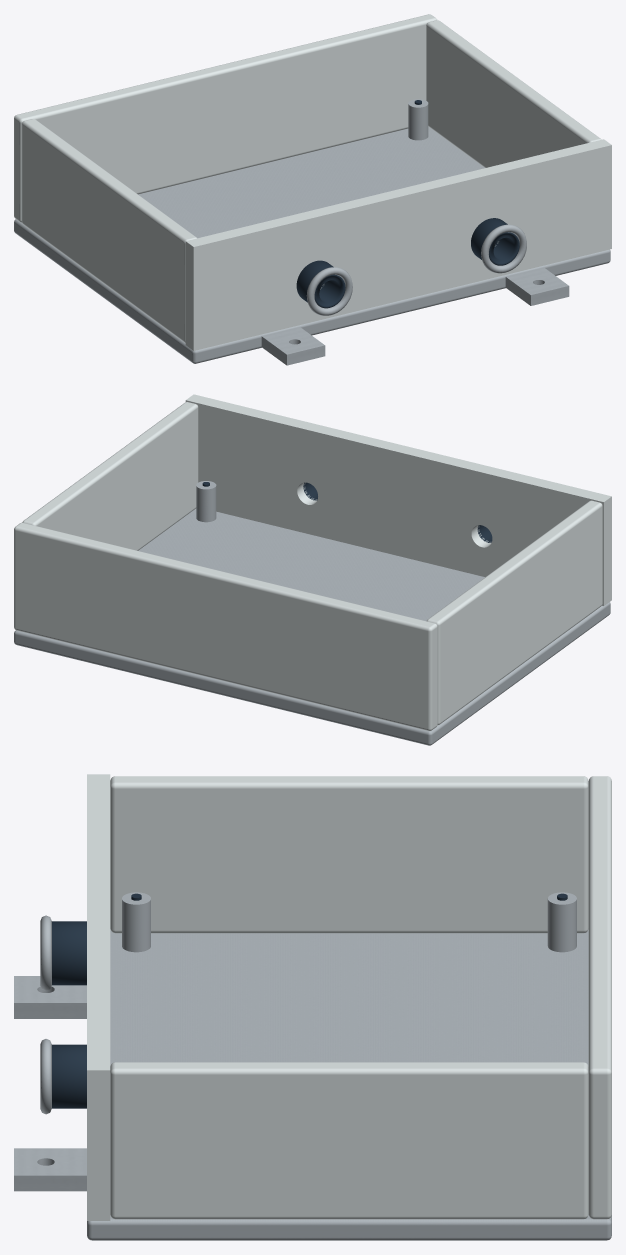
The model's file is shell.glb.
3 views of the same model, one above another, from view 1: azimuth 30°, elevation 25°; view 2: azimuth 150°, elevation 25°; view 3: azimuth 270°, elevation 25° (orthographic). The views are drawn at different scales.
Parts seen in each view (by area): view 1: HousingWallZ0.086, HousingWallZ-0.086, HousingBase, HousingWallX-0.116, HousingWallX0.116, MountLug0.07, MountLug-0.07, CableGland-0.05, CableGland0.05, GlandCollar0.05, GlandCollar-0.05, BoardBoss_0.103_-0.073; view 2: HousingWallZ-0.086, HousingWallZ0.086, HousingBase, HousingWallX-0.116, HousingWallX0.116, BoardBoss_0.103_0.073; view 3: HousingWallX0.116, HousingWallX-0.116, HousingBase, HousingWallZ0.086, HousingWallZ-0.086, MountLug0.07, MountLug-0.07, CableGland-0.05, CableGland0.05, BoardBoss_-0.103_-0.073, BoardBoss_-0.103_0.073, GlandCollar-0.05 (+1 smaller).
Boxes of the visible parts, left/top/right/bottom form: HousingWallZ0.086: left=185, top=139, right=611, bottom=350; HousingWallZ-0.086: left=14, top=14, right=437, bottom=222; HousingBase: left=14, top=126, right=610, bottom=363; HousingWallX-0.116: left=22, top=119, right=196, bottom=342; HousingWallX0.116: left=426, top=20, right=601, bottom=167; MountLug0.07: left=505, top=267, right=569, bottom=305; MountLug-0.07: left=261, top=327, right=325, bottom=365; CableGland-0.05: left=296, top=260, right=345, bottom=308; CableGland0.05: left=471, top=218, right=519, bottom=265; GlandCollar0.05: left=481, top=224, right=526, bottom=273; GlandCollar-0.05: left=306, top=267, right=352, bottom=315; BoardBoss_0.103_-0.073: left=408, top=99, right=428, bottom=140; HousingWallZ-0.086: left=14, top=522, right=437, bottom=730; HousingWallZ0.086: left=185, top=394, right=611, bottom=605; HousingBase: left=14, top=508, right=610, bottom=745; HousingWallX-0.116: left=427, top=500, right=602, bottom=725; HousingWallX0.116: left=22, top=402, right=198, bottom=550; BoardBoss_0.103_0.073: left=196, top=481, right=216, bottom=522; HousingWallX0.116: left=110, top=1062, right=588, bottom=1219; HousingWallX-0.116: left=110, top=776, right=588, bottom=933; HousingBase: left=87, top=929, right=611, bottom=1240; HousingWallZ0.086: left=87, top=774, right=110, bottom=1220; HousingWallZ-0.086: left=588, top=776, right=611, bottom=1219; MountLug0.07: left=14, top=1148, right=86, bottom=1191; MountLug-0.07: left=14, top=976, right=86, bottom=1018; CableGland-0.05: left=52, top=921, right=86, bottom=985; CableGland0.05: left=52, top=1044, right=86, bottom=1108; BoardBoss_-0.103_-0.073: left=547, top=892, right=576, bottom=952; BoardBoss_-0.103_0.073: left=122, top=892, right=150, bottom=952; GlandCollar-0.05: left=40, top=915, right=51, bottom=990.
Bounding box in the file's own units: 0.24 × 0.065 × 0.205.
3 materials, 1 textured.
